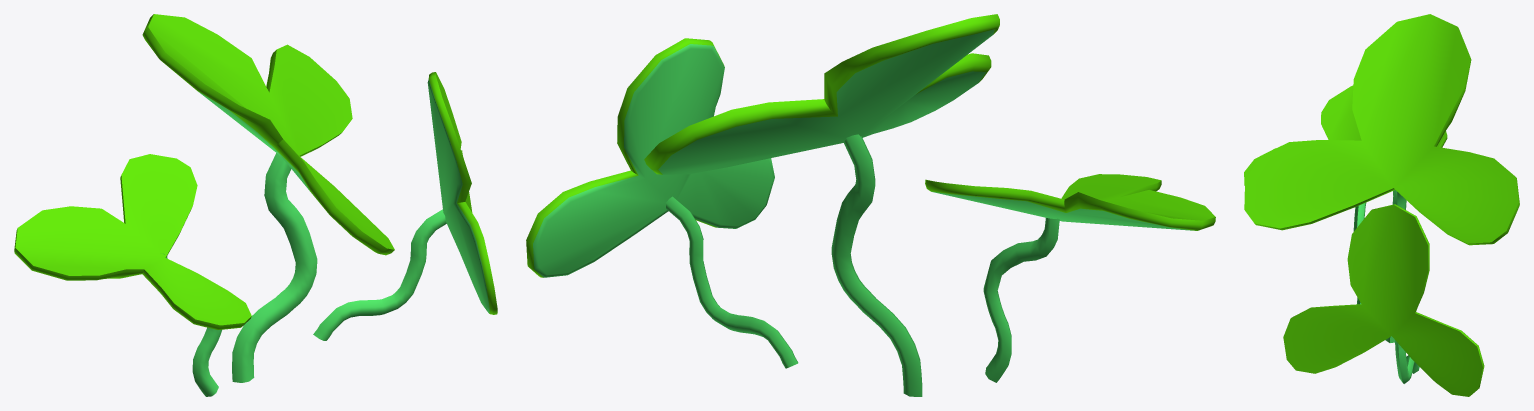
File: leaf_plant.fbx
3 views of the same model, side by side, from view 1: azimuth 30°, elevation 25°; view 2: azimuth 150°, elevation 25°; view 3: azimuth 270°, elevation 25° (orthographic). The views are drawn at different scales.
Visible parts, largest first — view 1: leaf_plant; view 2: leaf_plant; view 3: leaf_plant.
Part boxes in pixels (x1,y1,x2,y2): leaf_plant: (14,14,497,396); leaf_plant: (526,14,1215,396); leaf_plant: (1244,14,1519,396).
Size of the model in its own units: 31.8 by 20.88 by 17.57.
